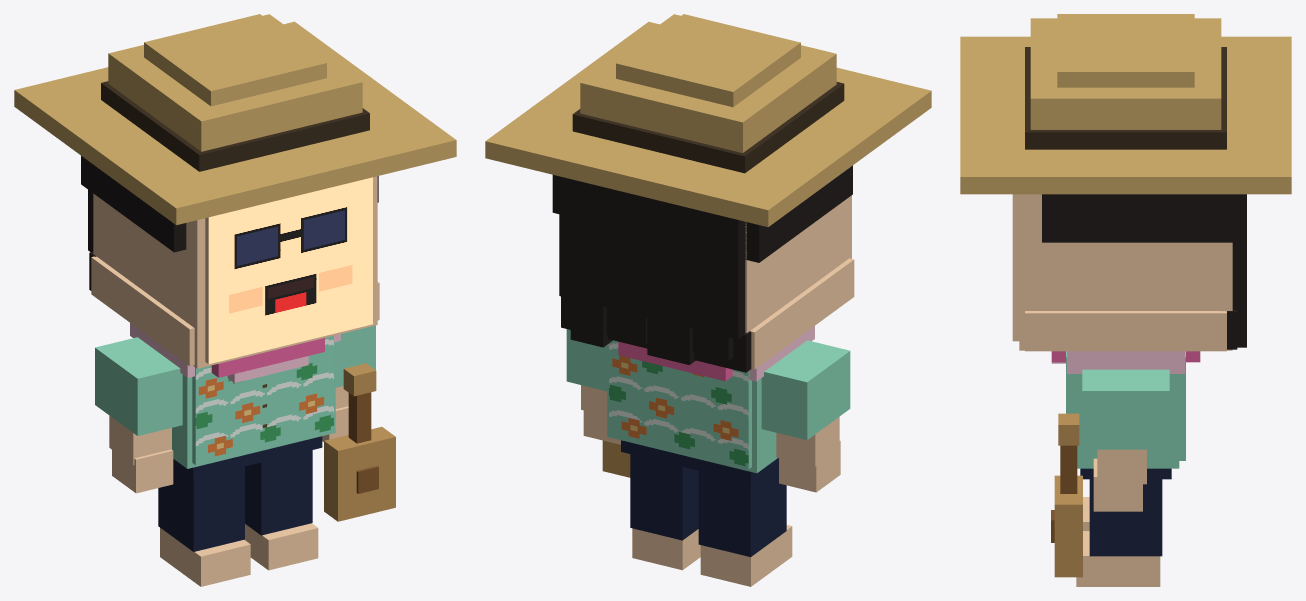
File: tokun.glb
The picture shows the model from 3 angles, left to right: view 1: azimuth 30°, elevation 25°; view 2: azimuth 150°, elevation 25°; view 3: azimuth 270°, elevation 25°; orthographic projection. The views are drawn at different scales.
Visible parts, largest first — view 1: TokunVoxel_HatBrim, TokunVoxel_FacePanel, TokunVoxel_HatCrown, TokunVoxel_AlohaFrontPanel, TokunVoxel_HatTop, TokunVoxel_HeadCube, TokunVoxel_SecondarySleeve, TokunVoxel_PantsLeg_-1, TokunVoxel_HatBand, TokunVoxel_PrimaryUkuleleBody, TokunVoxel_PantsLeg_1, TokunVoxel_Cheeks (+13 smaller); view 2: TokunVoxel_HatBrim, TokunVoxel_RearHair, TokunVoxel_HatCrown, TokunVoxel_AlohaBackPanel, TokunVoxel_HatTop, TokunVoxel_SecondarySleeve, TokunVoxel_HeadCube, TokunVoxel_PantsLeg_-1, TokunVoxel_HatBand, TokunVoxel_PantsLeg_1, TokunVoxel_Cheeks, TokunVoxel_SideHair_-1 (+17 smaller); view 3: TokunVoxel_HatBrim, TokunVoxel_HeadCube, TokunVoxel_HatCrown, TokunVoxel_HatTop, TokunVoxel_SideHair_1, TokunVoxel_Cheeks, TokunVoxel_PrimarySleeve, TokunVoxel_HatBand, TokunVoxel_PantsLeg_1, TokunVoxel_PrimaryUkuleleBody, TokunVoxel_Foot_1, TokunVoxel_Torso (+10 smaller).
Part boxes in pixels (left/top/right/bottom): TokunVoxel_HatBrim: left=14, top=21, right=456, bottom=225; TokunVoxel_FacePanel: left=205, top=177, right=372, bottom=364; TokunVoxel_HatCrown: left=108, top=14, right=362, bottom=151; TokunVoxel_AlohaFrontPanel: left=192, top=335, right=333, bottom=464; TokunVoxel_HatTop: left=144, top=14, right=326, bottom=106; TokunVoxel_HeadCube: left=93, top=176, right=377, bottom=368; TokunVoxel_SecondarySleeve: left=95, top=337, right=182, bottom=435; TokunVoxel_PantsLeg_-1: left=158, top=464, right=244, bottom=551; TokunVoxel_HatBand: left=101, top=81, right=369, bottom=171; TokunVoxel_PrimaryUkuleleBody: left=324, top=426, right=395, bottom=521; TokunVoxel_PantsLeg_1: left=245, top=450, right=312, bottom=535; TokunVoxel_Cheeks: left=91, top=256, right=379, bottom=366; TokunVoxel_HatBrim: left=485, top=21, right=931, bottom=226; TokunVoxel_RearHair: left=559, top=176, right=745, bottom=339; TokunVoxel_HatCrown: left=580, top=14, right=836, bottom=152; TokunVoxel_AlohaBackPanel: left=609, top=340, right=751, bottom=469; TokunVoxel_HatTop: left=616, top=14, right=800, bottom=107; TokunVoxel_SecondarySleeve: left=761, top=340, right=850, bottom=439; TokunVoxel_HeadCube: left=745, top=195, right=851, bottom=332; TokunVoxel_PantsLeg_-1: left=698, top=463, right=786, bottom=557; TokunVoxel_HatBand: left=572, top=82, right=844, bottom=173; TokunVoxel_PantsLeg_1: left=630, top=454, right=698, bottom=540; TokunVoxel_Cheeks: left=750, top=258, right=854, bottom=369; TokunVoxel_SideHair_-1: left=745, top=165, right=852, bottom=262; TokunVoxel_HatBrim: left=960, top=36, right=1291, bottom=194; TokunVoxel_HeadCube: left=1019, top=194, right=1232, bottom=350; TokunVoxel_HatCrown: left=1030, top=18, right=1221, bottom=129; TokunVoxel_HatTop: left=1057, top=14, right=1194, bottom=87; TokunVoxel_SideHair_1: left=1042, top=194, right=1232, bottom=242; TokunVoxel_Cheeks: left=1025, top=311, right=1226, bottom=351; TokunVoxel_PrimarySleeve: left=1082, top=369, right=1169, bottom=449; TokunVoxel_HatBand: left=1025, top=47, right=1226, bottom=149; TokunVoxel_PantsLeg_1: left=1089, top=479, right=1162, bottom=556; TokunVoxel_PrimaryUkuleleBody: left=1054, top=475, right=1082, bottom=577; TokunVoxel_Foot_1: left=1076, top=531, right=1160, bottom=586; TokunVoxel_Torso: left=1072, top=374, right=1179, bottom=468.
Bounding box in the file's own units: 1.74 × 2.98 × 1.74.
Materials: 13 (3 with a texture image).
